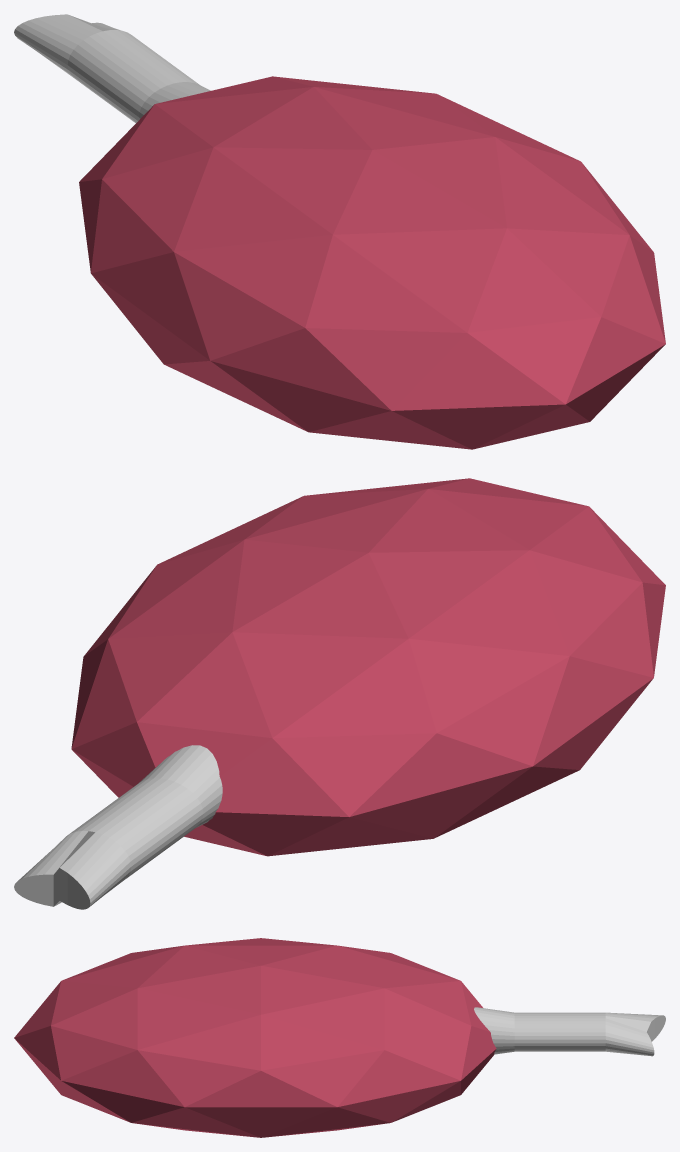
File: raw_meat.fbx
The picture shows the model from 3 angles, top to bottom: view 1: azimuth 30°, elevation 25°; view 2: azimuth 150°, elevation 25°; view 3: azimuth 270°, elevation 25°; orthographic projection. The views are drawn at different scales.
Parts seen in each view (by area): view 1: meat, bone; view 2: meat, bone; view 3: meat, bone.
Boxes of the visible parts, <box> form: meat: <box>79,76,665,449</box>; bone: <box>14,14,210,122</box>; meat: <box>71,478,665,856</box>; bone: <box>14,745,222,909</box>; meat: <box>14,938,496,1137</box>; bone: <box>474,1007,665,1056</box>.
Bounding box in the file's own units: 25.19 × 12.26 × 50.13.
